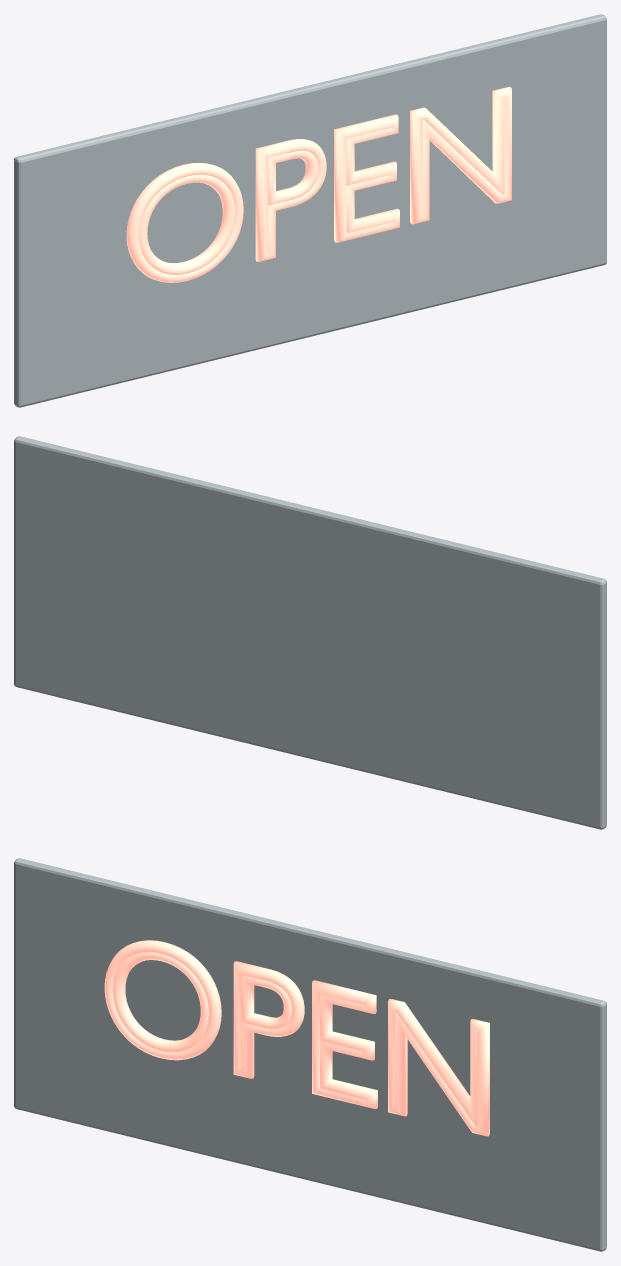
The model's file is neon_open.glb.
The picture shows the model from 3 angles, top to bottom: view 1: azimuth 30°, elevation 25°; view 2: azimuth 150°, elevation 25°; view 3: azimuth 330°, elevation 25°; orthographic projection.
Visible parts, largest first — view 1: neon_open; view 2: neon_open; view 3: neon_open.
Boxes of the visible parts, x1=… form: neon_open: x1=14, y1=14, x2=606, y2=407; neon_open: x1=14, y1=436, x2=606, y2=829; neon_open: x1=14, y1=858, x2=606, y2=1251.
Size of what is drawn, in the model's own units: 0.62 by 0.25 by 0.031.
